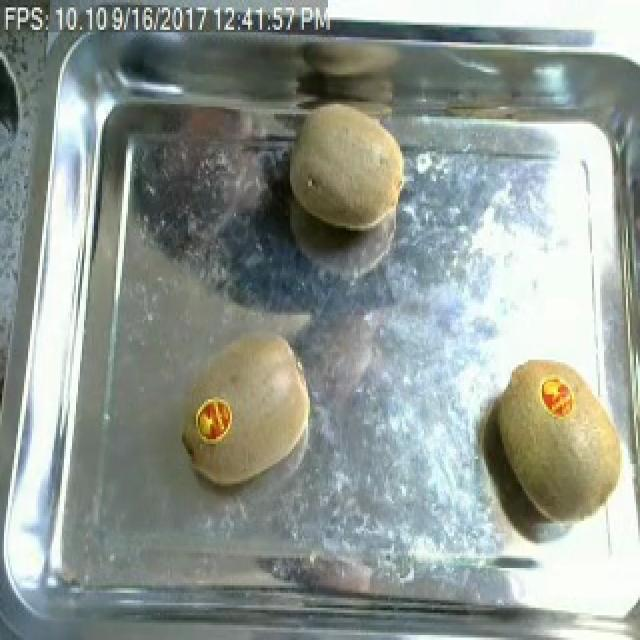Fruit: (488, 345, 640, 533), (178, 320, 322, 496), (276, 92, 416, 240)
